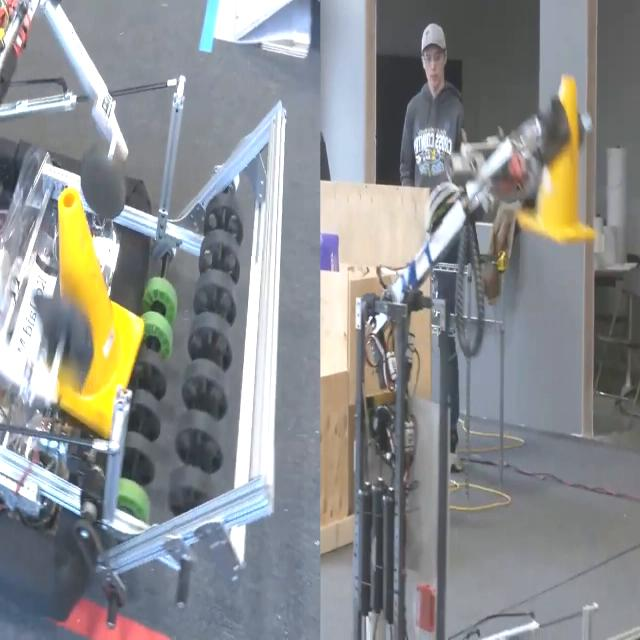frc_cone: (48, 173, 134, 421), (531, 74, 590, 249)
frc_cube: (319, 233, 341, 279)
